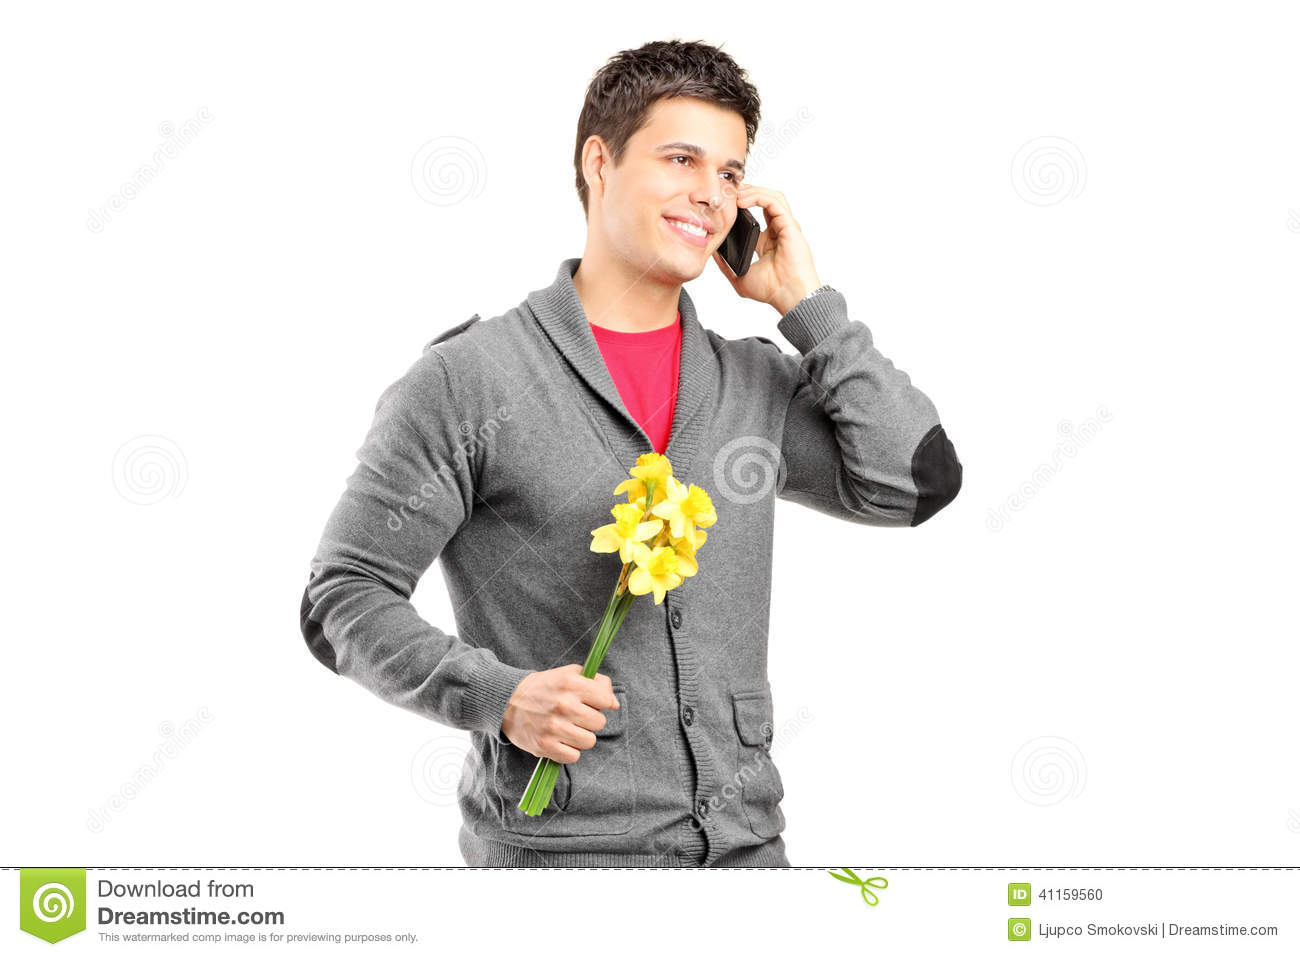phone: (717, 201, 765, 287)
talk: (646, 131, 811, 312)
